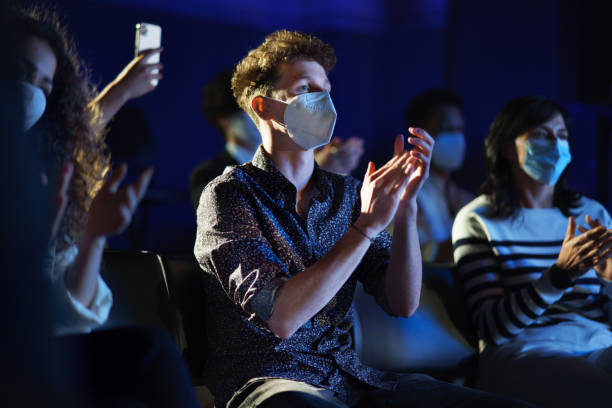with mask: (231, 29, 345, 151), (497, 90, 583, 199), (393, 85, 476, 168), (18, 13, 59, 137)
